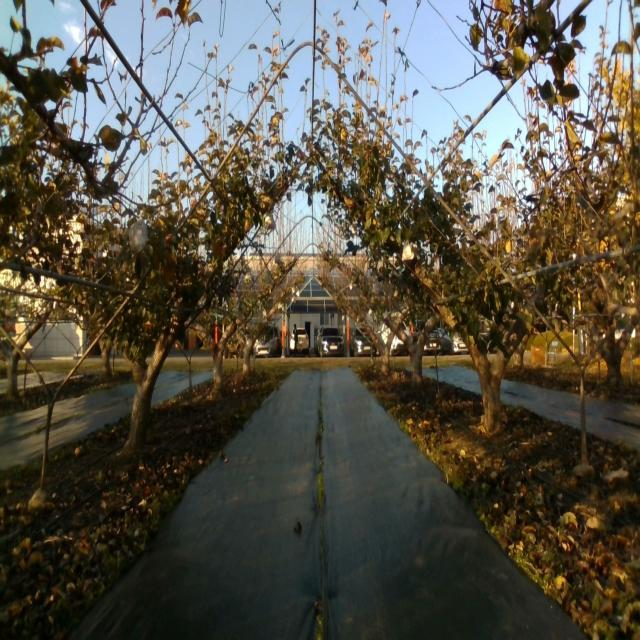pearbags: (129, 218, 148, 252), (401, 241, 414, 261), (264, 212, 276, 231)
